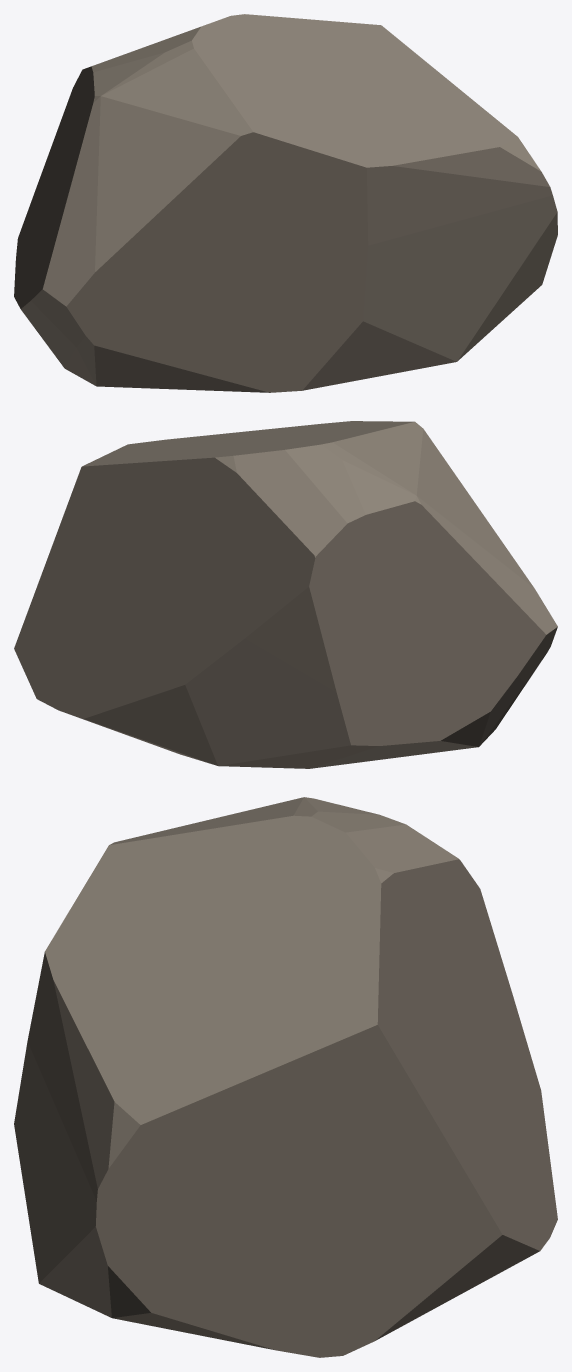
Rendered from World_Rock.fbx.
The picture shows the model from 3 angles, top to bottom: view 1: azimuth 30°, elevation 25°; view 2: azimuth 150°, elevation 25°; view 3: azimuth 270°, elevation 25°; orthographic projection. The views are drawn at different scales.
Parts seen in each view (by area): view 1: RockSide, RockTop; view 2: RockSide, RockTop; view 3: RockSide, RockTop.
Boxes of the visible parts, left/top/right/bottom form: RockSide: left=14, top=66, right=557, bottom=392; RockTop: left=43, top=14, right=541, bottom=306; RockSide: left=14, top=457, right=557, bottom=768; RockTop: left=82, top=421, right=557, bottom=634; RockSide: left=14, top=859, right=557, bottom=1357; RockTop: left=45, top=797, right=460, bottom=1168.
Bounding box in the file's own units: 505 × 286 × 384.
